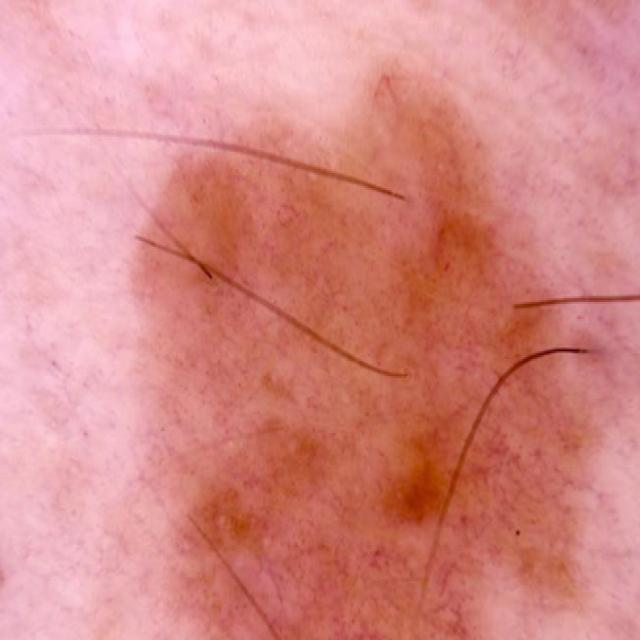Keratosis: (121, 55, 625, 640)
